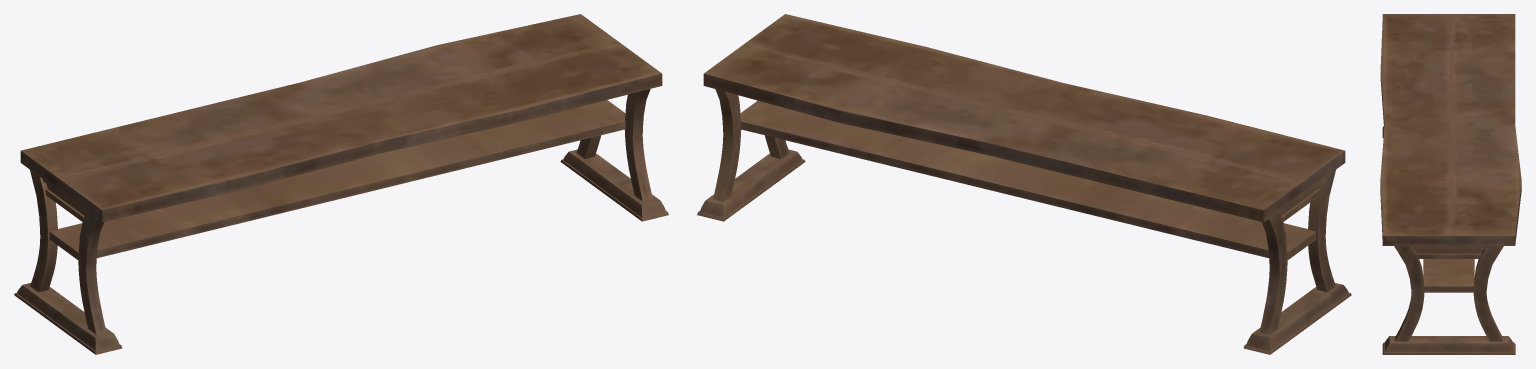
File: SM_Bench_4147bf.glb
3 renders of one model, left to right at view 1: azimuth 30°, elevation 25°; view 2: azimuth 150°, elevation 25°; view 3: azimuth 270°, elevation 25°, orthographic. The views are drawn at different scales.
Size of the model in its own units: 2.05 by 0.4881 by 0.5381.
Materials: 1 (1 with a texture image).
